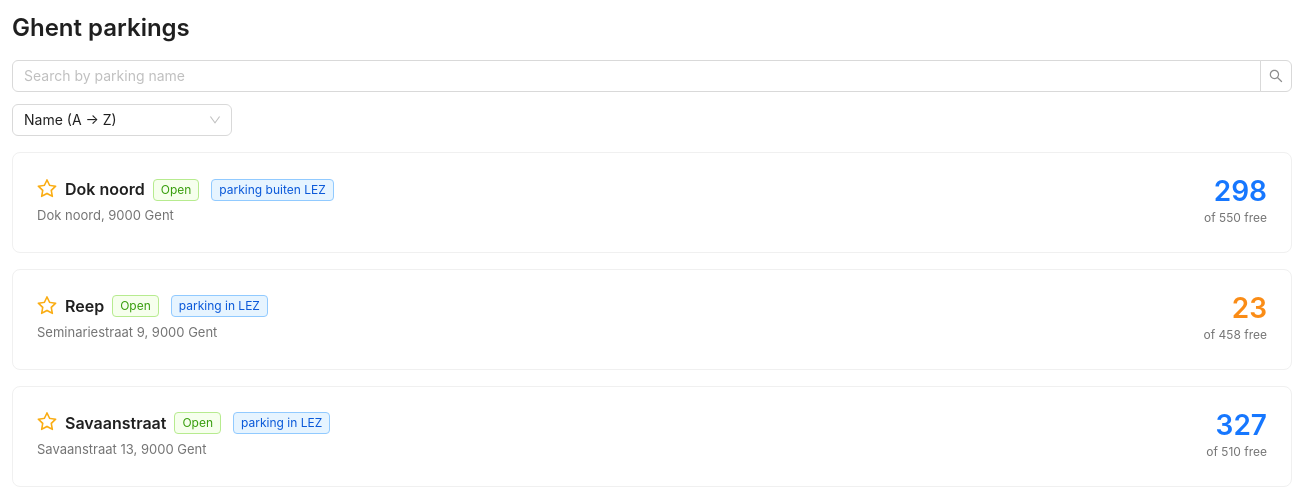
Test: Parking list search filters by name
This screenshot has width=1304, height=504.
Expected: the heading "Savaanstraat" is shown, [65,411,166,435]
Expected: the heading "Reep" is shown, [65,294,104,318]
Type "reep" into the search field named "search parkings" at (628, 76), box [24,65,1233,87]
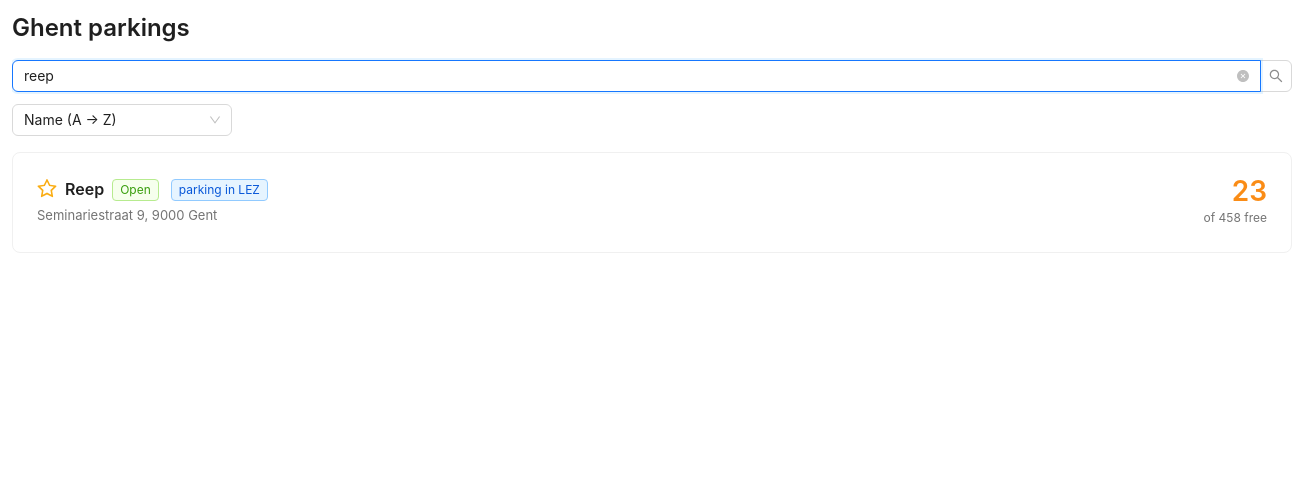
Expected: the heading "Reep" is shown, [65,177,104,201]
Result: the heading "Savaanstraat" is gone
Result: the heading "Dok noord" is gone
